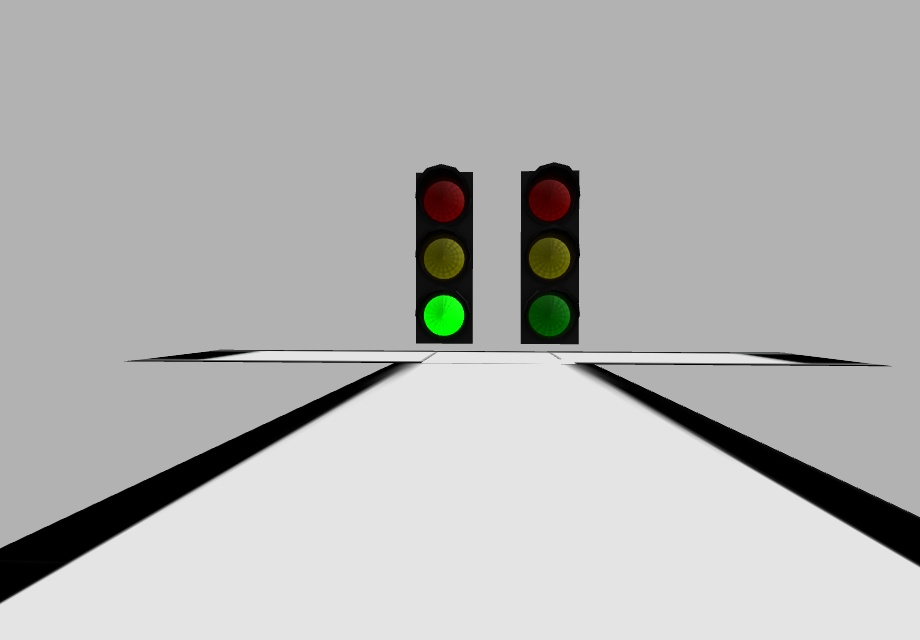green_off: (532, 294, 569, 335)
green_on: (425, 294, 464, 335)
